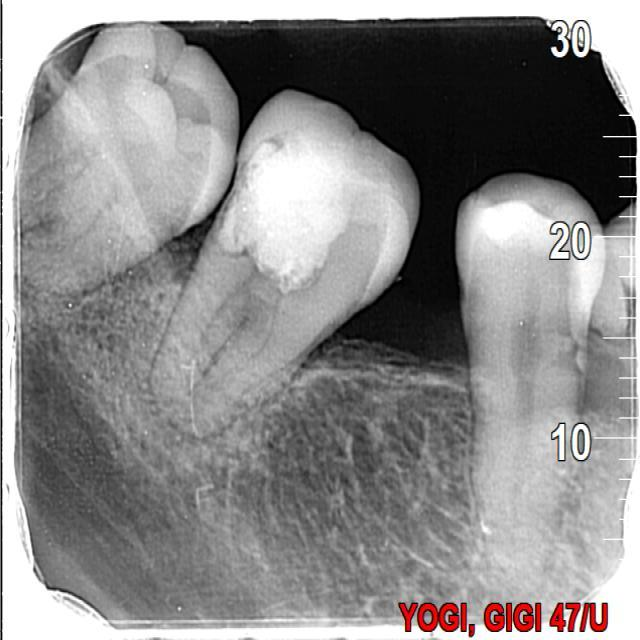individual-tooth-8tto: (146, 102, 412, 434), (19, 21, 234, 295), (455, 183, 604, 570)
